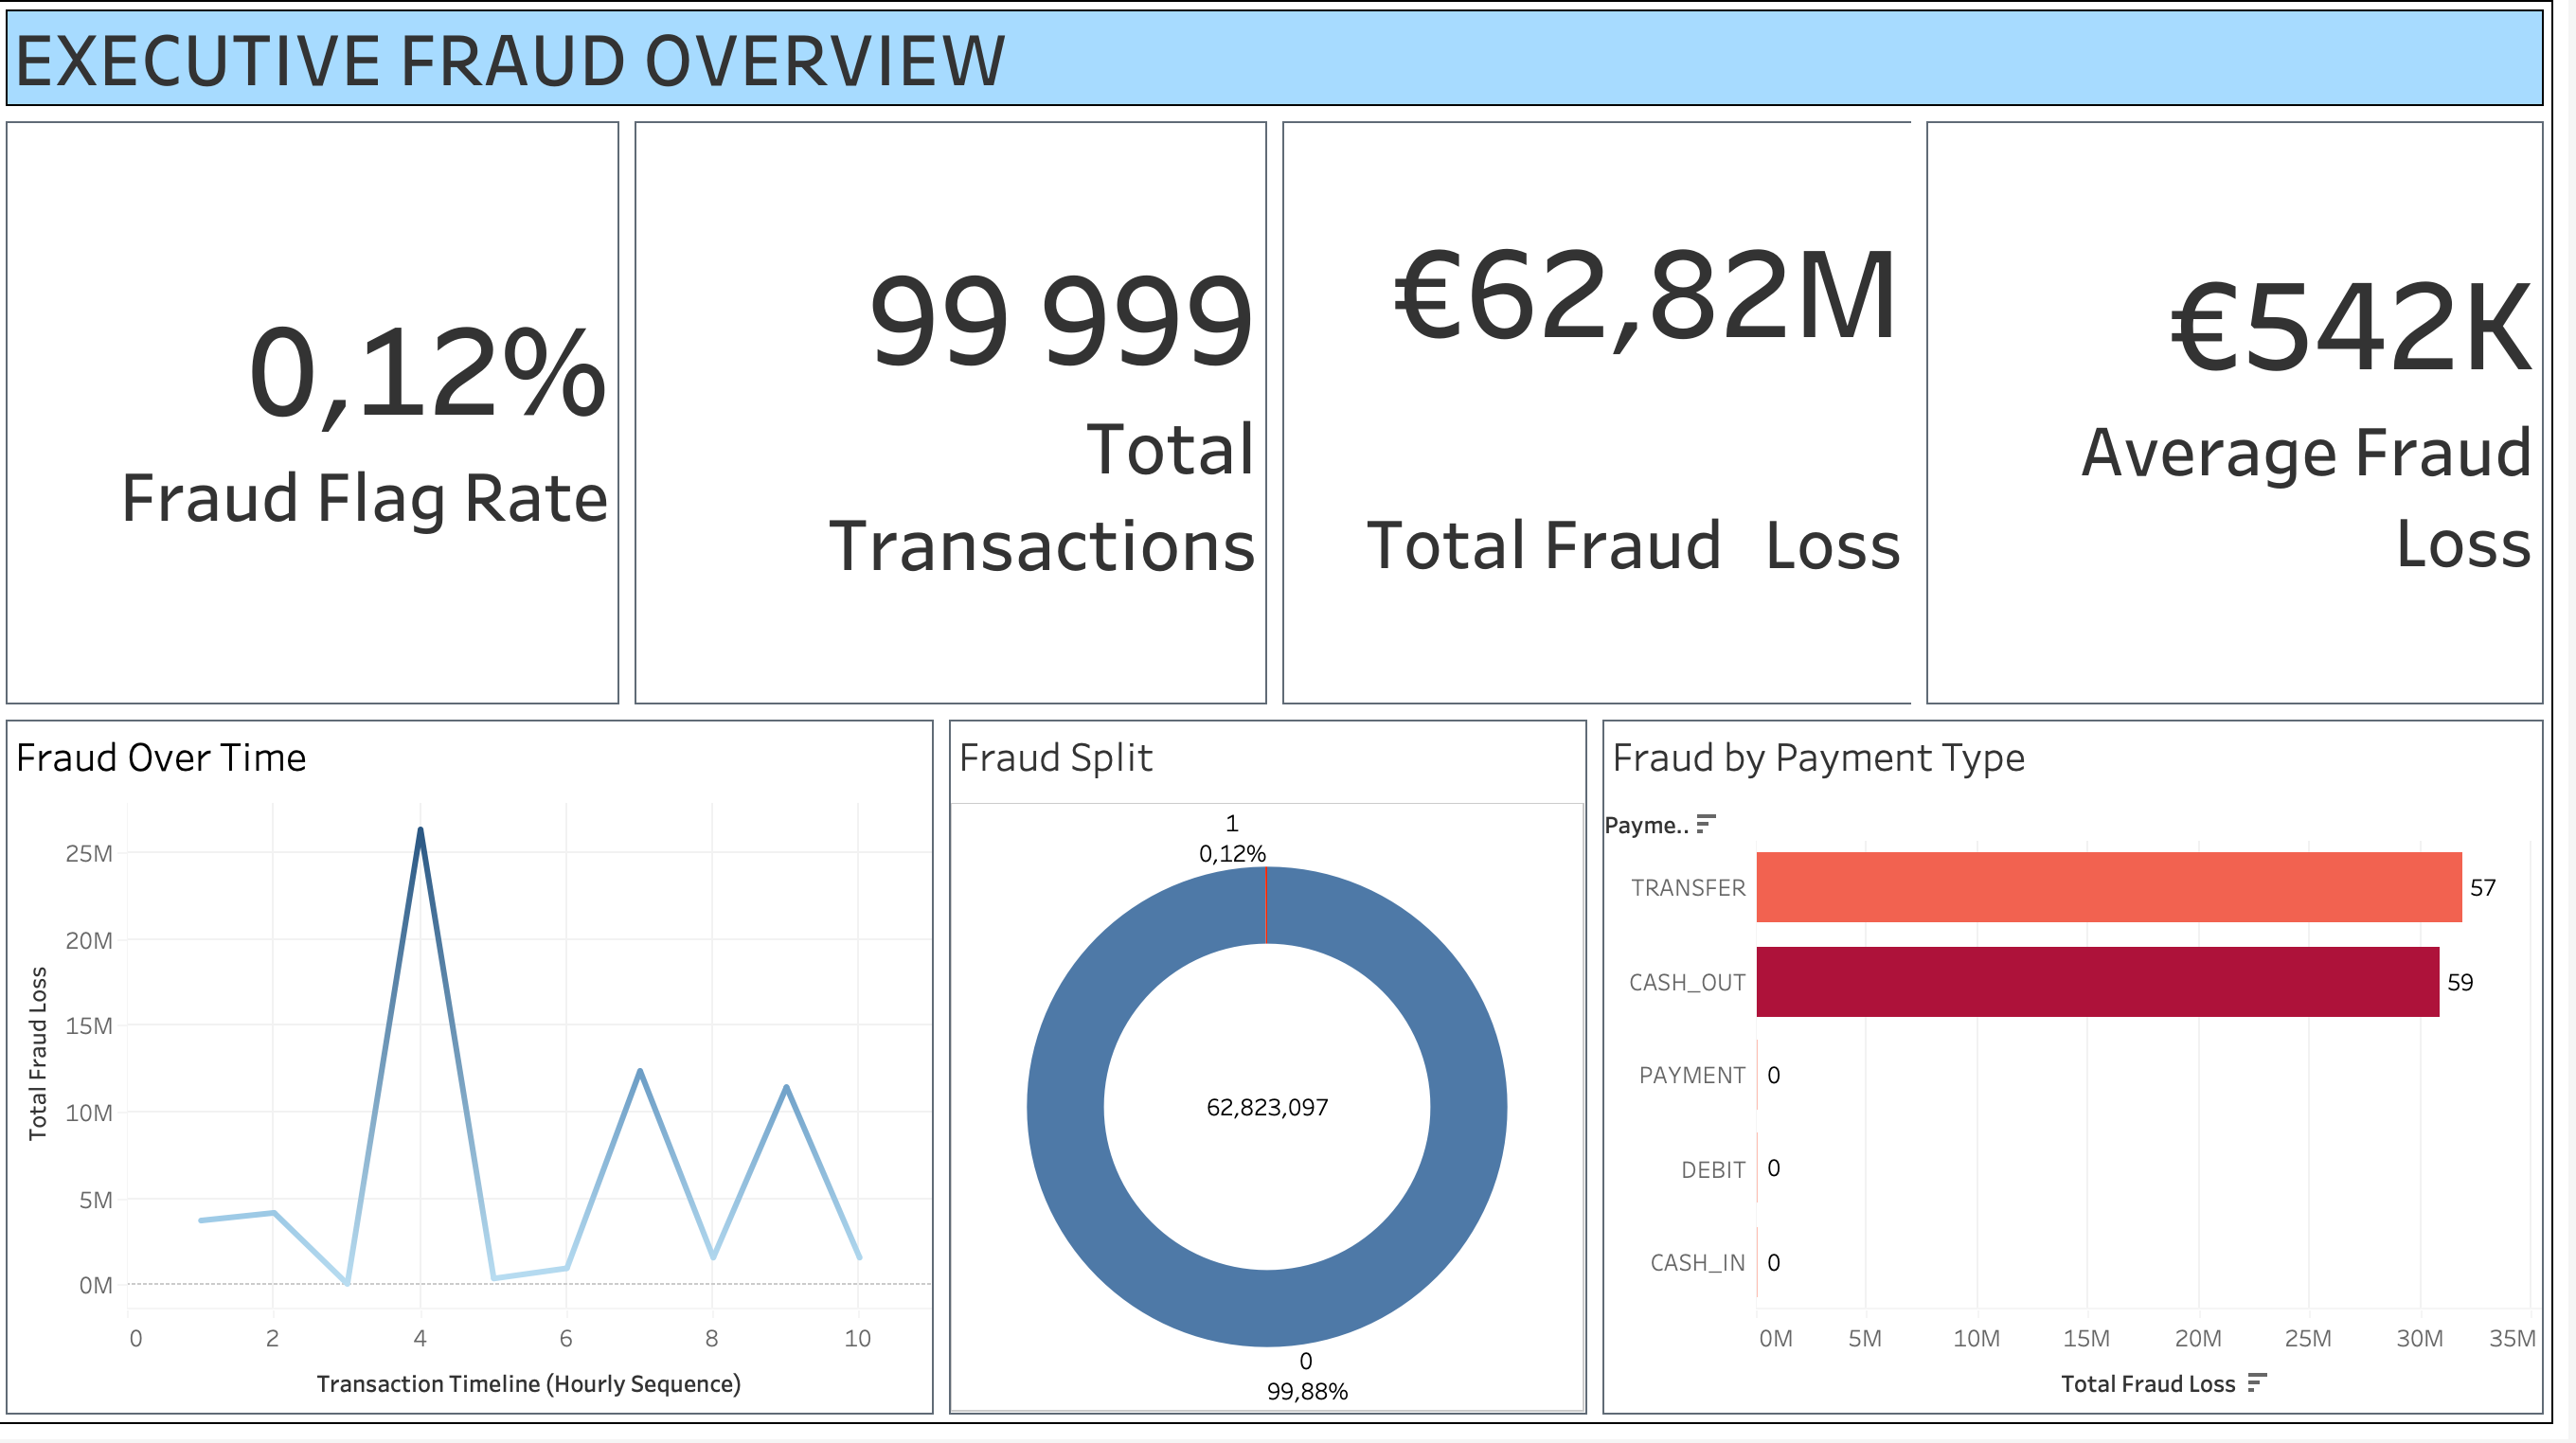

Layout of this report page (visuals, bound fields, positions):
{"tool":"tableau","page":{"name":"EXECUTIVE FRAUD OVERVIEW","canvas":[1366,768],"ordinal":0},"visuals":[{"type":"title","box":[9,9,1348,59]},{"type":"worksheet","title":"Fraud Flag Rate","mark":"Automatic","box":[9,68,332.4,316]},{"type":"worksheet","title":"Total Transactions","mark":"Automatic","box":[341.4,68,341.6,316]},{"type":"worksheet","title":"Total Fraud Loss","mark":"Automatic","box":[683,68,340.5,316]},{"type":"worksheet","title":"Average Fraud Loss","mark":"Automatic","box":[1023.5,68,333.5,316]},{"type":"worksheet","title":"Fraud Over Time","mark":"Automatic","rows":["Calculation_2212416219545603"],"cols":["step"],"box":[9,384,498,375]},{"type":"worksheet","title":"Fraud Split","mark":"Pie","rows":["Calculation_2212416248553479","Calculation_2212416248569865"],"box":[507,384,345,375]},{"type":"worksheet","title":"Fraud by Payment Type","mark":"Automatic","rows":["type"],"cols":["Calculation_2212416219545603"],"box":[852,384,505,375]}]}

Visuals, with their boxes in screenshot pixels (x1, y1, x2, y2), scaled from the page's 1366x768 canvas onto the 2576x1443 screenshot:
title: l=17, t=17, r=2559, b=128
"Fraud Flag Rate" worksheet: l=17, t=128, r=644, b=721
"Total Transactions" worksheet: l=644, t=128, r=1288, b=721
"Total Fraud Loss" worksheet: l=1288, t=128, r=1930, b=721
"Average Fraud Loss" worksheet: l=1930, t=128, r=2559, b=721
"Fraud Over Time" worksheet: l=17, t=721, r=957, b=1426
"Fraud Split" worksheet (Pie marks): l=957, t=721, r=1607, b=1426
"Fraud by Payment Type" worksheet: l=1607, t=721, r=2559, b=1426
